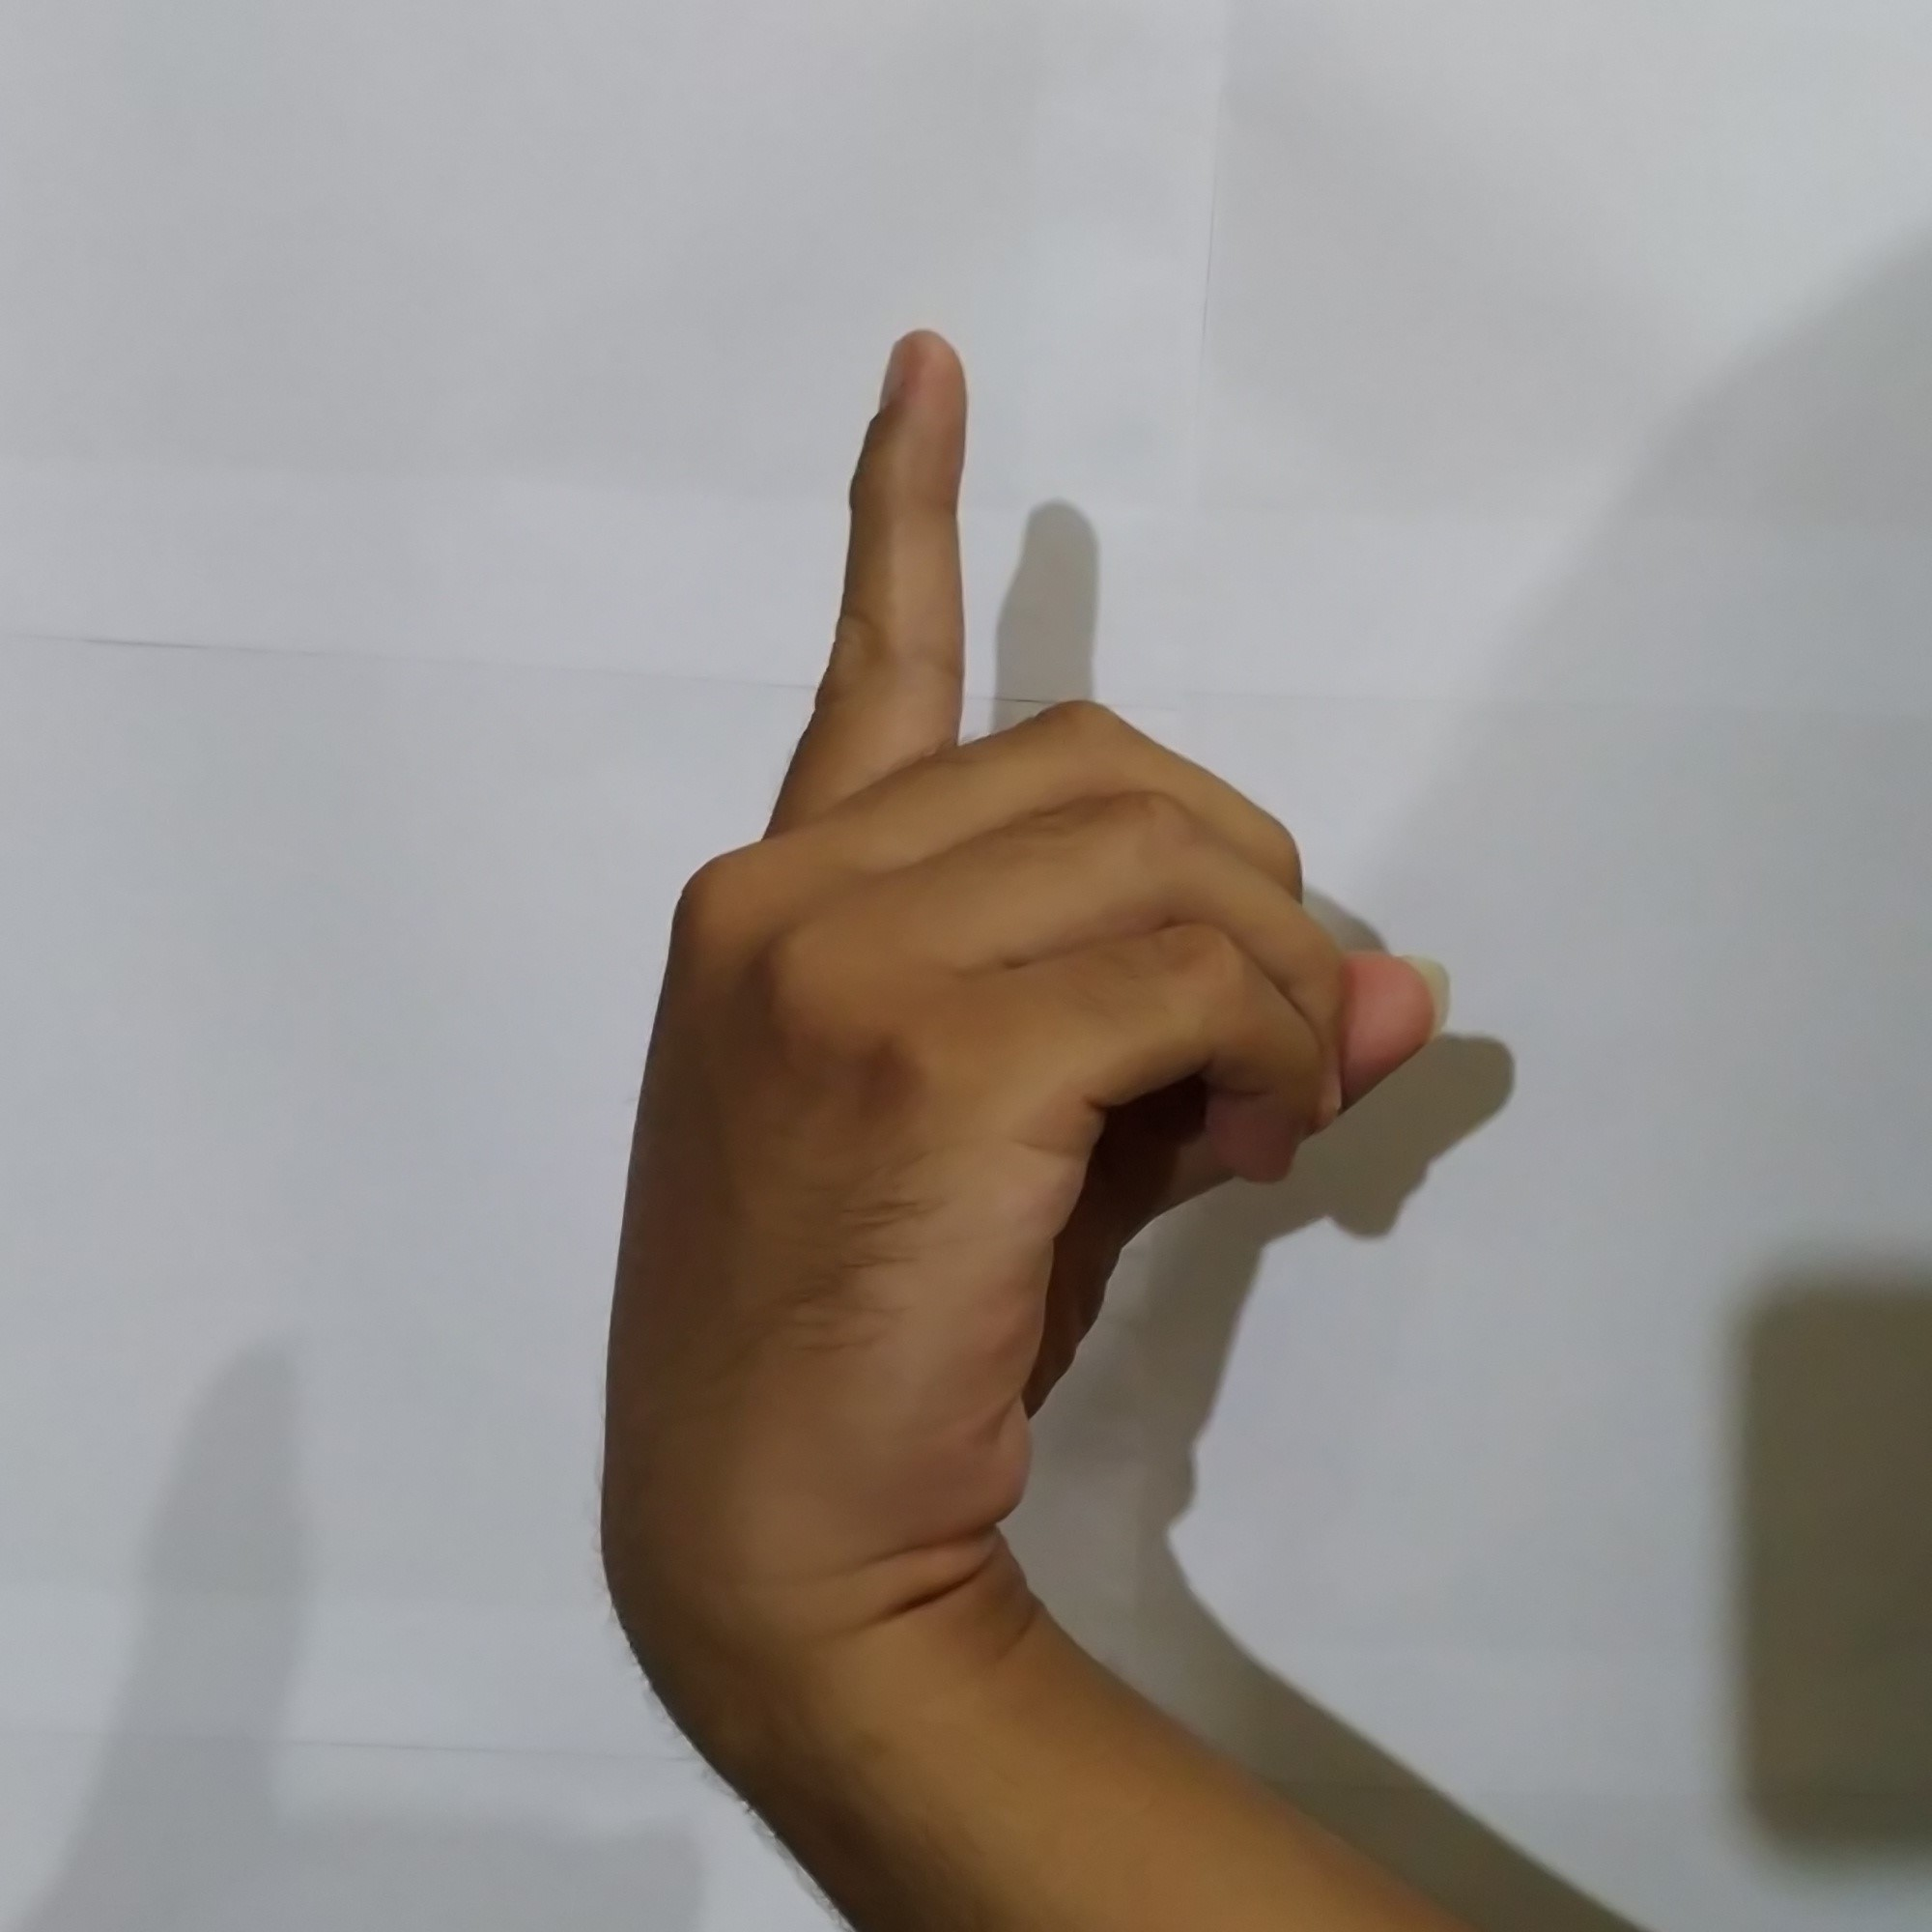D: (593, 310, 1474, 1555)
